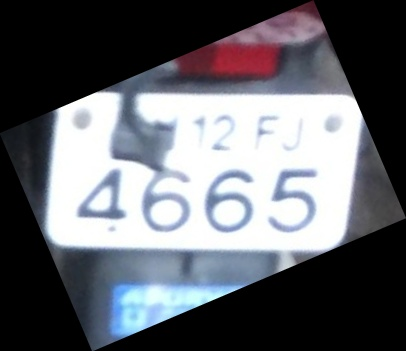character: (265, 166, 319, 234), (202, 166, 254, 236), (138, 166, 192, 233)
